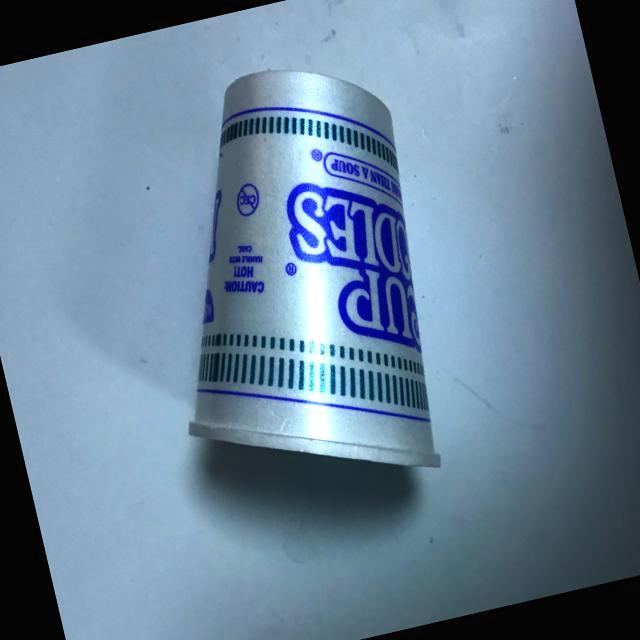plastic: (96, 9, 516, 545)
